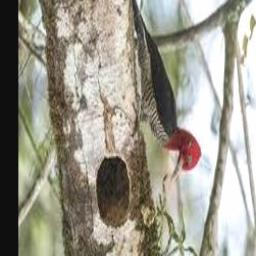Woodpecker: (130, 0, 201, 187)
